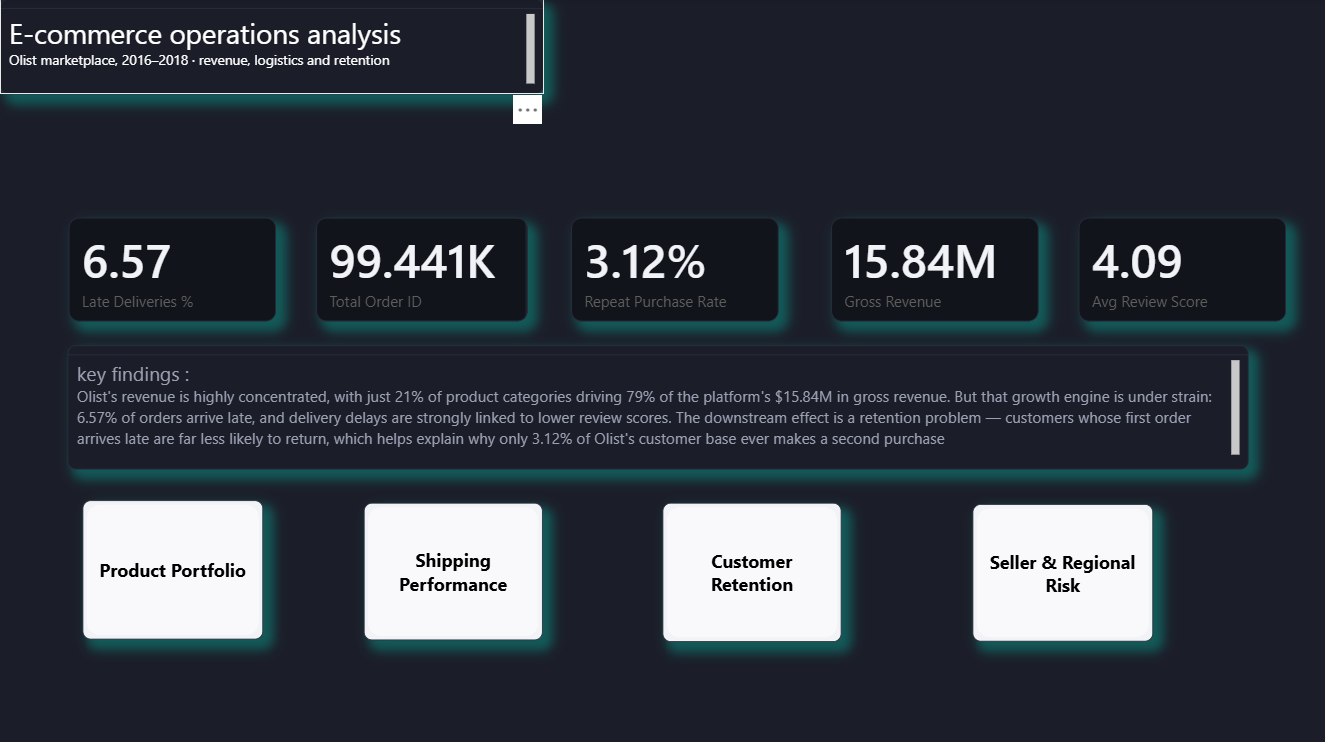

Layout of this report page (visuals, bound fields, positions):
{"tool":"powerbi","page":{"name":"Intro","canvas":[1280,720],"ordinal":0},"visuals":[{"type":"cardVisual","fields":{"Data":["orders_cleaned.Late Deliveries %"]},"box":[66.4,211.1,200.3,100.1],"z":0},{"type":"cardVisual","fields":{"Data":["Avg(reviews_cleaned.review_score)"]},"box":[1041.2,211.1,200.3,100.1],"z":1000},{"type":"cardVisual","fields":{"Data":["Count(orders_cleaned.order_id)"]},"box":[305.2,211.1,203.9,100.1],"z":2000},{"type":"cardVisual","fields":{"Data":["order_items_clean.Gross_revenue"]},"box":[802.3,211.1,200.3,100.1],"z":3000},{"type":"cardVisual","fields":{"Data":["Table.Repeat Purchase Rate"]},"box":[551.3,211.1,200.3,100.1],"z":4000},{"type":"textbox","box":[0,0,524.8,91.7],"z":5000},{"type":"actionButton","box":[80,484.3,174.3,134.3],"z":6000},{"type":"actionButton","box":[351.4,485.7,172.9,132.9],"z":7000},{"type":"actionButton","box":[640,485.7,172.9,134.3],"z":8000},{"type":"actionButton","box":[938.6,487.1,174.3,132.9],"z":9000},{"type":"textbox","box":[65.7,334.3,1140,120],"z":10000}]}

Visuals, with their boxes in screenshot pixels (x1, y1, x2, y2), scaled from the page's 1280x720 canvas onto the 1325x742 screenshot:
cardVisual - orders_cleaned.Late Deliveries %: (left=69, top=218, right=276, bottom=321)
cardVisual - Avg(reviews_cleaned.review_score): (left=1078, top=218, right=1285, bottom=321)
cardVisual - Count(orders_cleaned.order_id): (left=316, top=218, right=527, bottom=321)
cardVisual - order_items_clean.Gross_revenue: (left=831, top=218, right=1038, bottom=321)
cardVisual - Table.Repeat Purchase Rate: (left=571, top=218, right=778, bottom=321)
textbox: (left=0, top=0, right=543, bottom=95)
actionButton: (left=83, top=499, right=263, bottom=638)
actionButton: (left=364, top=501, right=543, bottom=638)
actionButton: (left=662, top=501, right=841, bottom=639)
actionButton: (left=972, top=502, right=1152, bottom=639)
textbox: (left=68, top=345, right=1248, bottom=468)
